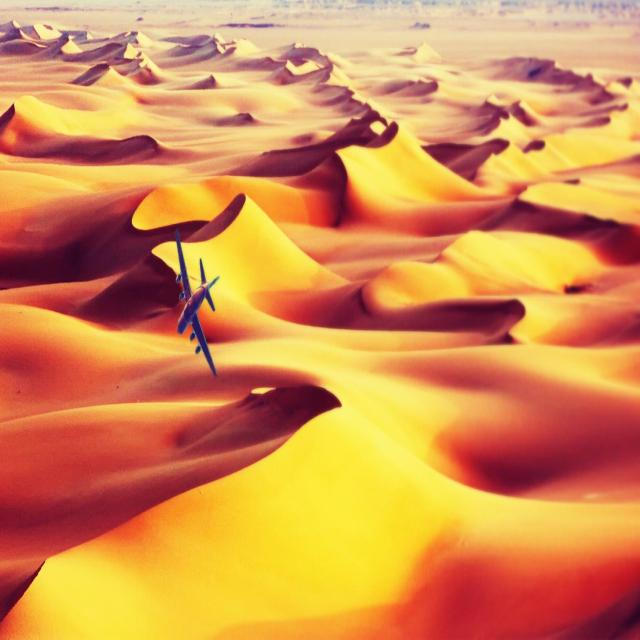airplane: (173, 227, 220, 377)
